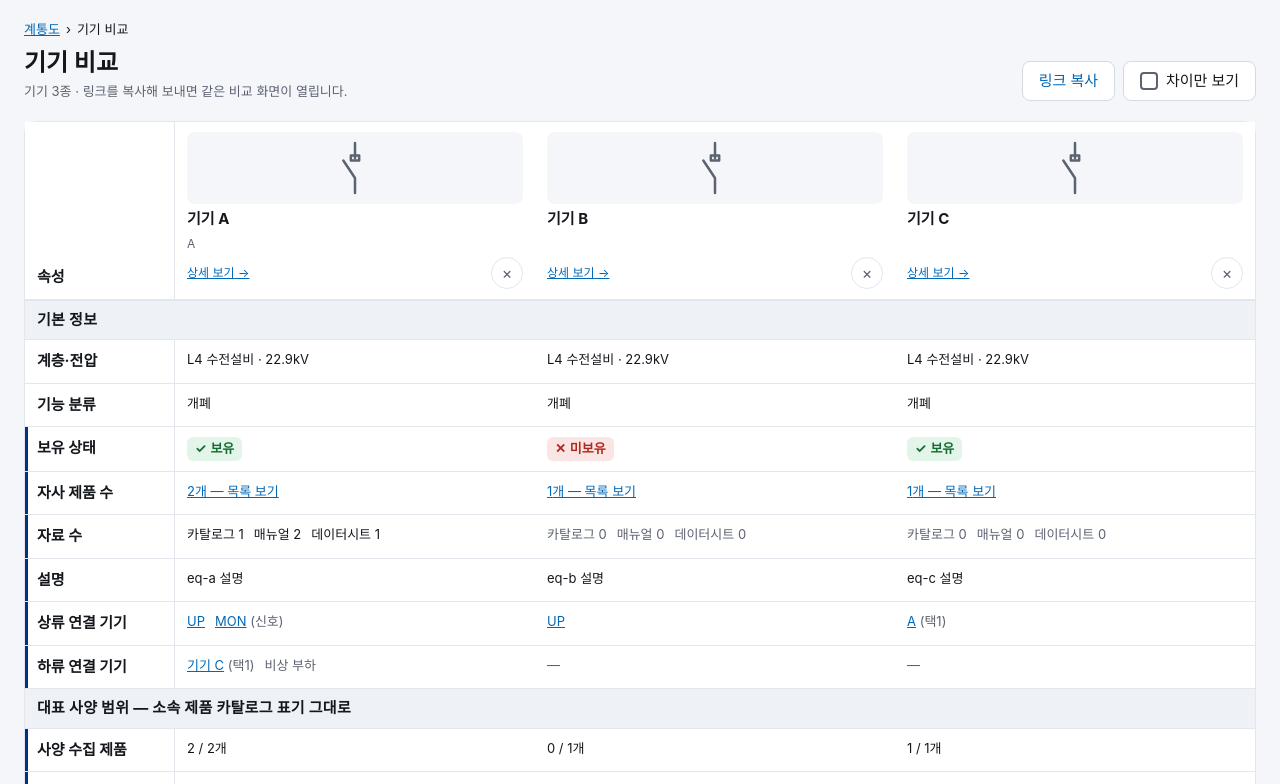
it: CT-07 기기 비교 (/compare?type=equipment) › 열 빼기: URL ids 갱신 + 담기 목록에서도 제거, 1개 남으면 빈 상태
Step 1. Click the button with test id "compare-remove-eq-b" → (867, 272), box [851, 256, 883, 288]
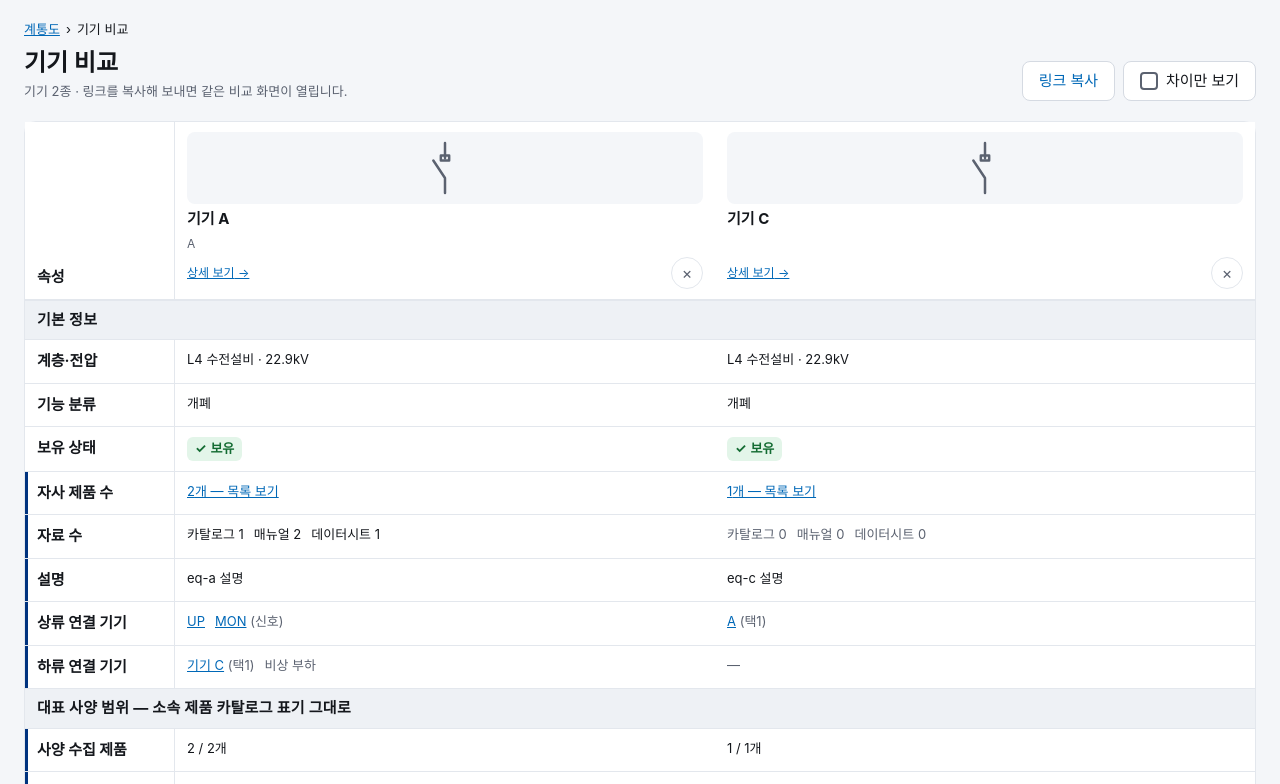
Expected: the column heading with test id "compare-col-eq-b" is gone
Step 2. Click the button with test id "compare-remove-eq-c" → (1227, 272), box [1211, 256, 1243, 288]
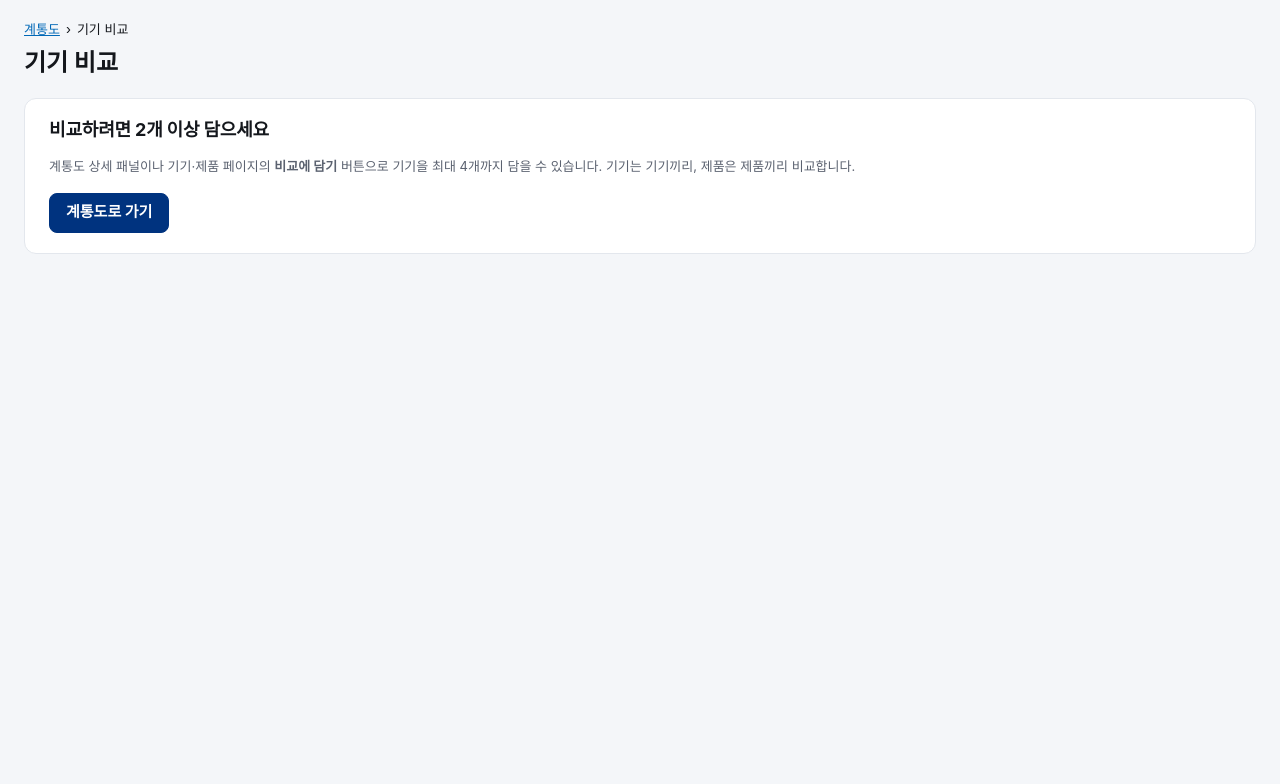
Expected: the element with test id "compare-empty" is shown, [24, 98, 1256, 254]
